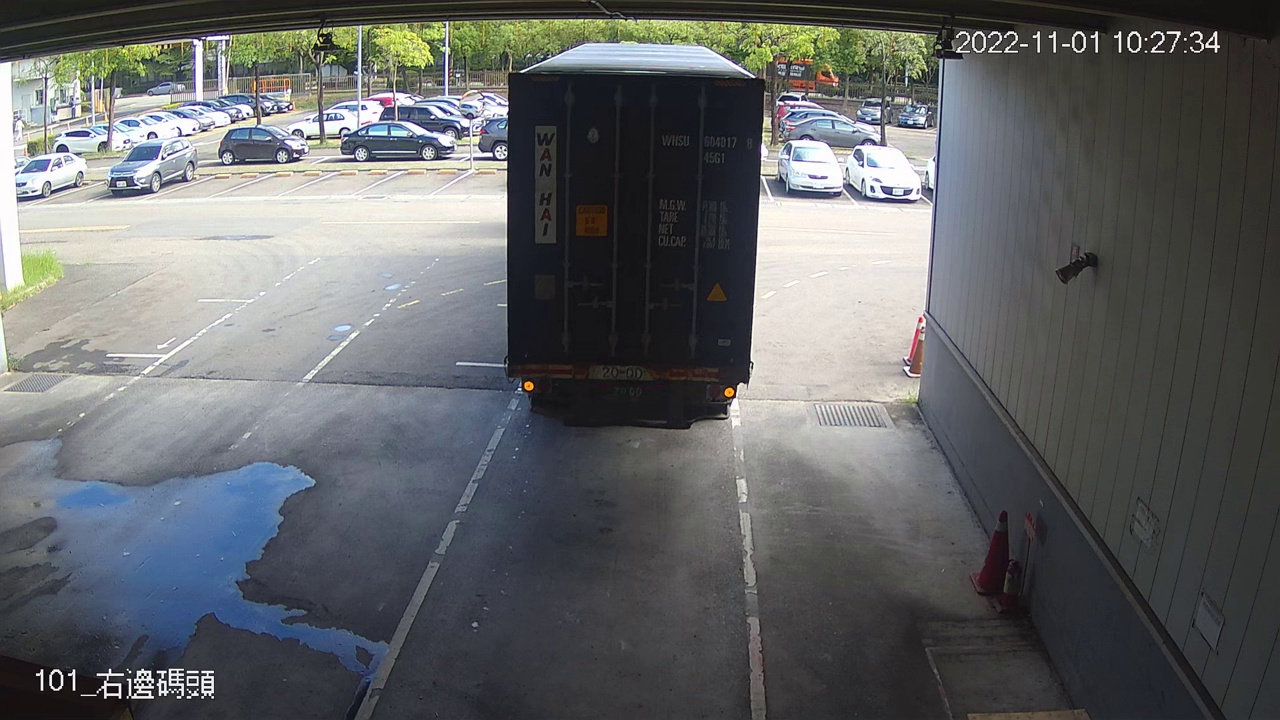container: (652, 124, 758, 172)
